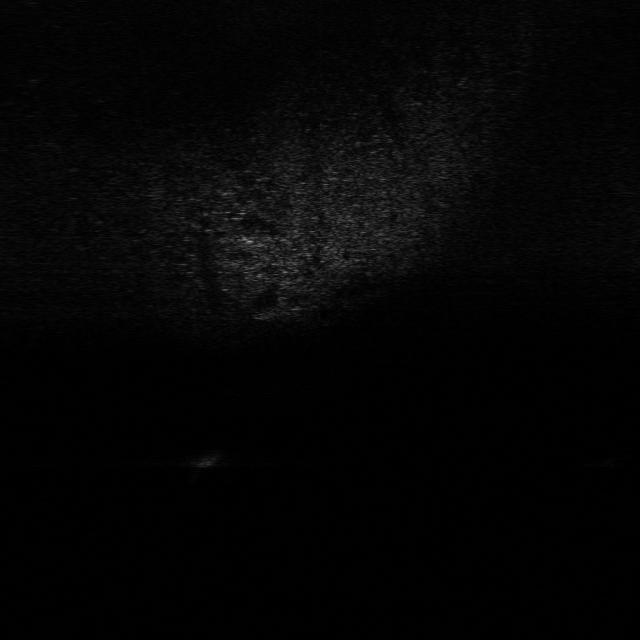cylinder: (193, 448, 231, 469)
